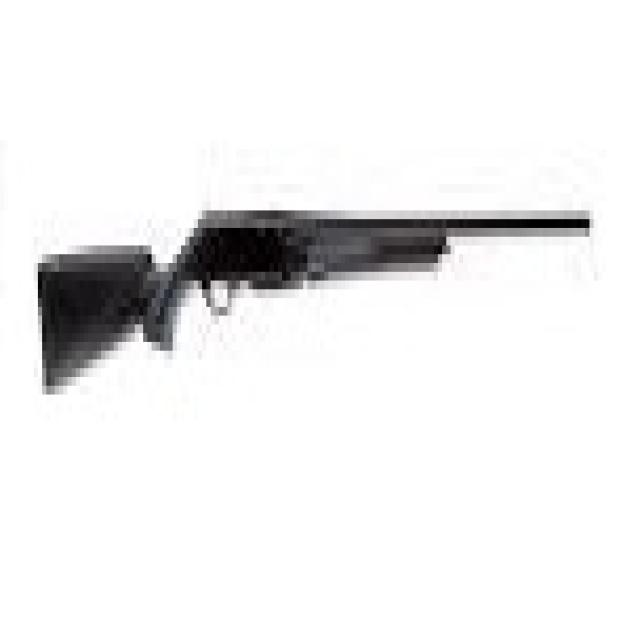rifle: (30, 198, 603, 408)
